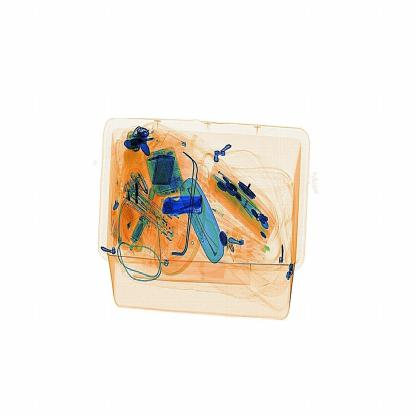knife: (158, 187, 208, 217)
